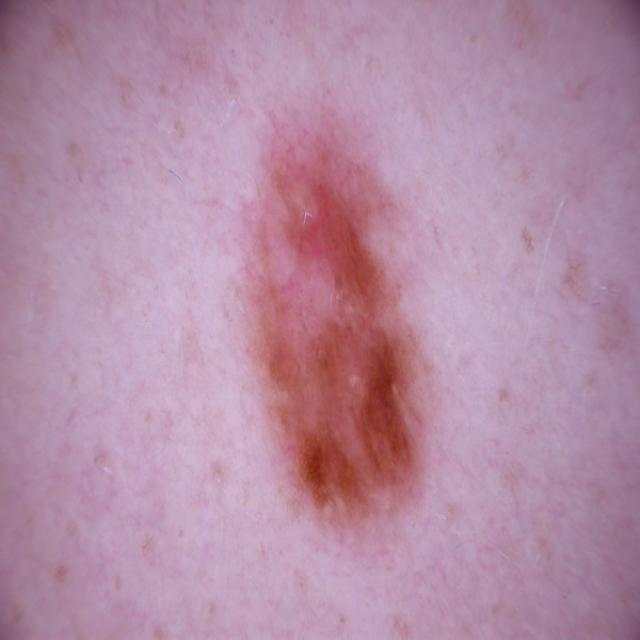NV: (233, 92, 435, 538)
